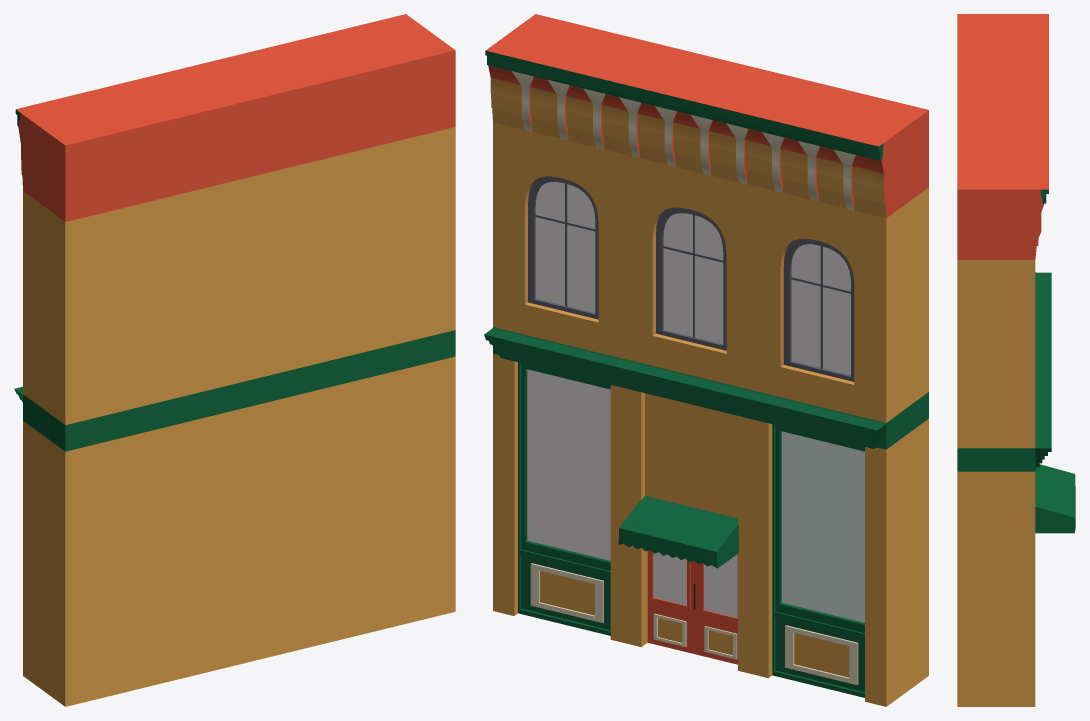
The model's file is KA_Facade_07.fbx.
The picture shows the model from 3 angles, left to right: view 1: azimuth 30°, elevation 25°; view 2: azimuth 150°, elevation 25°; view 3: azimuth 270°, elevation 25°; orthographic projection. The views are drawn at different scales.
Visible parts, largest first — view 1: Box002; view 2: Box002; view 3: Box002.
Boxes of the visible parts, left/top/right/bottom form: Box002: left=14, top=14, right=455, bottom=706; Box002: left=484, top=14, right=928, bottom=706; Box002: left=957, top=14, right=1075, bottom=706.
Bounding box in the file's own units: 315 × 433 × 89.54.
